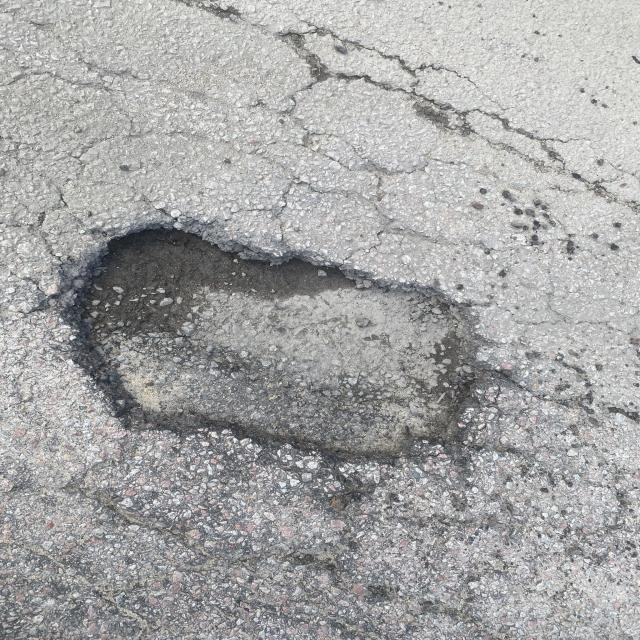Pothole: (7, 194, 543, 512)
